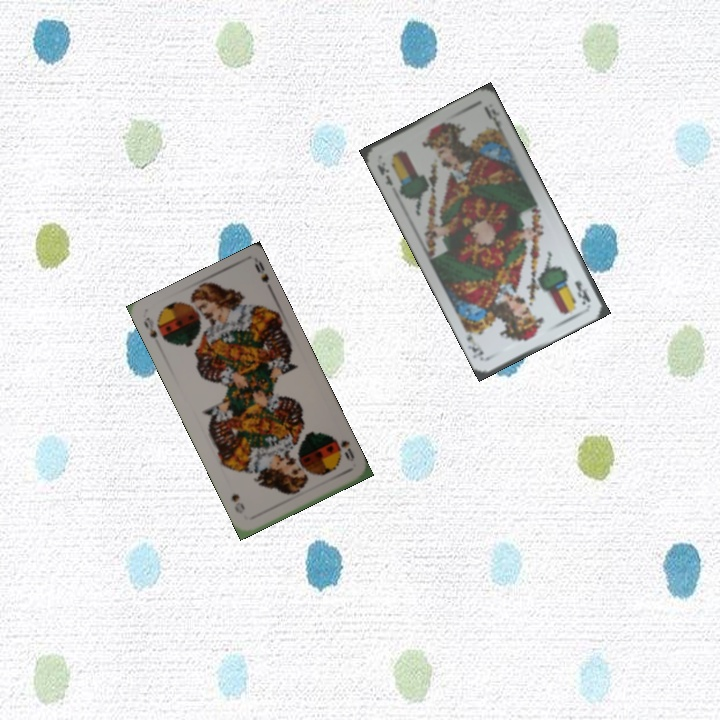EK: (571, 277, 593, 307), (373, 161, 395, 189)
SO: (139, 313, 160, 341), (337, 436, 357, 464)
